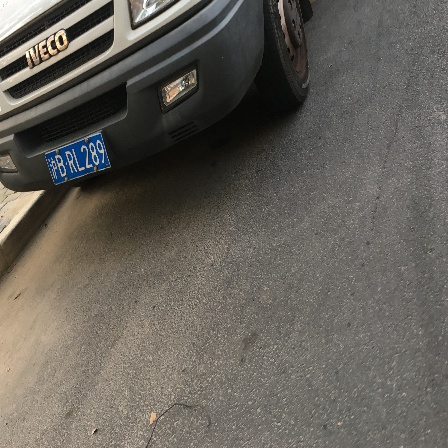plate: (42, 131, 112, 185)
